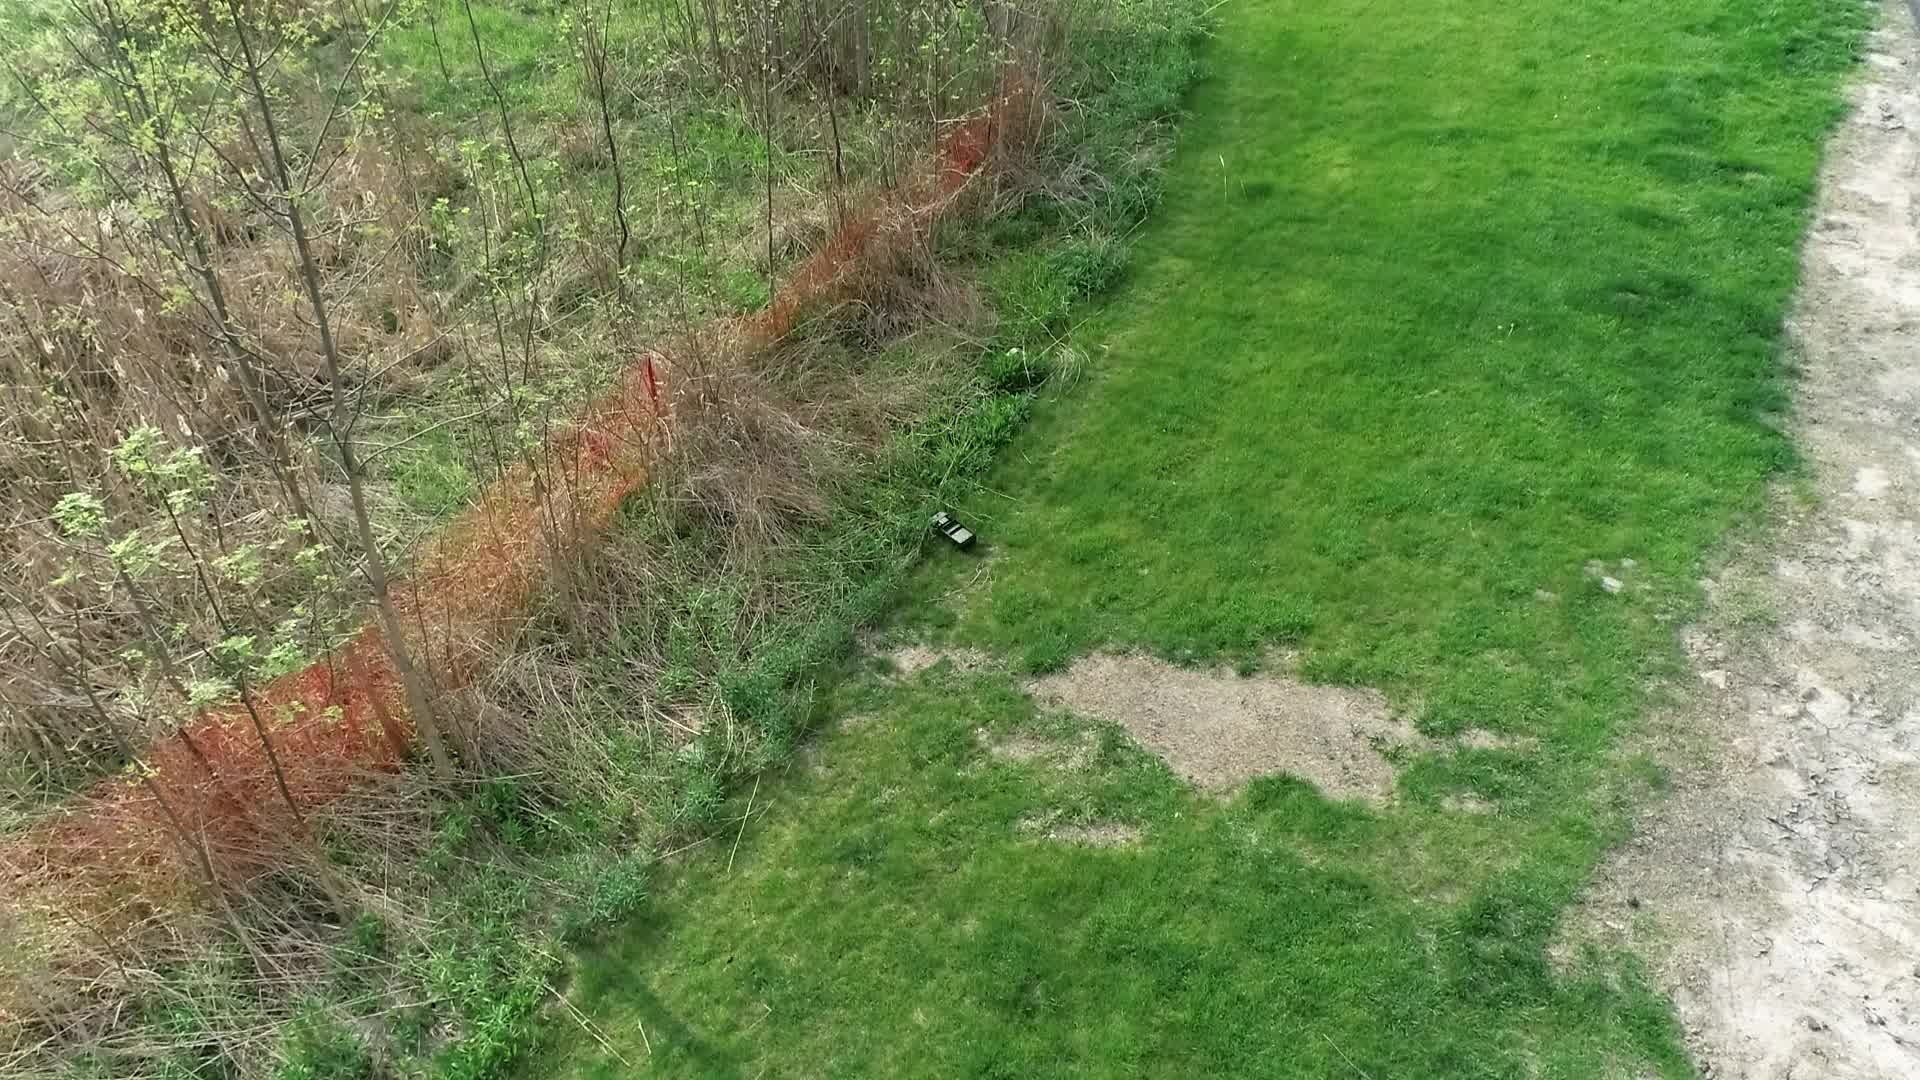transporter9: (928, 508, 976, 555)
